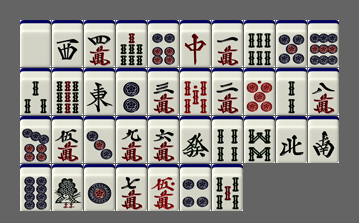0m: (148, 164, 179, 211)
0p: (244, 68, 275, 115)
0s: (180, 68, 211, 115)
1m: (212, 20, 243, 67)
1p: (84, 164, 115, 211)
1s: (52, 164, 83, 211)
1z: (84, 68, 115, 115)
2m: (212, 68, 243, 115)
2p: (116, 68, 147, 115)
2s: (276, 68, 307, 115)
2z: (308, 116, 339, 163)
3m: (148, 68, 179, 115)
3p: (84, 116, 115, 163)
3s: (20, 68, 51, 115)
3z: (52, 20, 83, 67)
4m: (84, 20, 115, 67)
4p: (180, 164, 211, 211)
4s: (212, 116, 243, 163)
4z: (276, 116, 307, 163)
5m: (52, 116, 83, 163)
5p: (276, 20, 307, 67)
5s: (212, 164, 243, 211)
5z: (20, 20, 51, 67)
6m: (148, 116, 179, 163)
6p: (148, 20, 179, 67)
6s: (244, 20, 275, 67)
6z: (180, 116, 211, 163)
7m: (116, 164, 147, 211)
7p: (20, 116, 51, 163)
7s: (116, 20, 147, 67)
7z: (180, 20, 211, 67)
8m: (308, 68, 339, 115)
8p: (20, 164, 51, 211)
8s: (244, 116, 275, 163)
9m: (116, 116, 147, 163)
9p: (308, 20, 339, 67)
9s: (52, 68, 83, 115)
